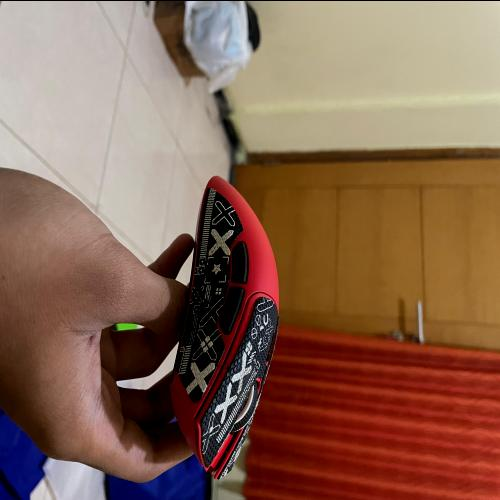Mouse: (167, 164, 289, 487)
